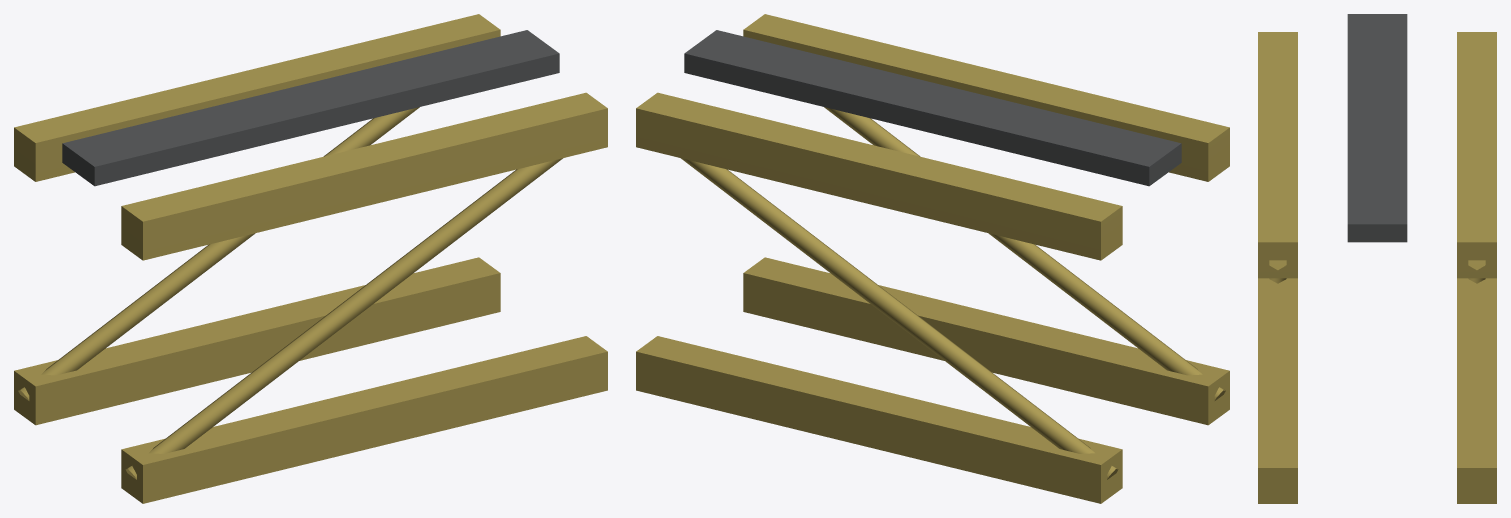
Rendered from qBridge_steel.glb.
3 renders of one model, left to right at view 1: azimuth 30°, elevation 25°; view 2: azimuth 150°, elevation 25°; view 3: azimuth 270°, elevation 25°, orthographic. The views are drawn at different scales.
Parts seen in each view (by area): view 1: qBridge_steel; view 2: qBridge_steel; view 3: qBridge_steel.
Part boxes in pixels (box(x1,y1,x2,y2)): qBridge_steel: box(14, 14, 607, 503); qBridge_steel: box(636, 14, 1229, 503); qBridge_steel: box(1258, 14, 1496, 503).
Size of the model in its own units: 1.02 by 0.62 by 0.48.
